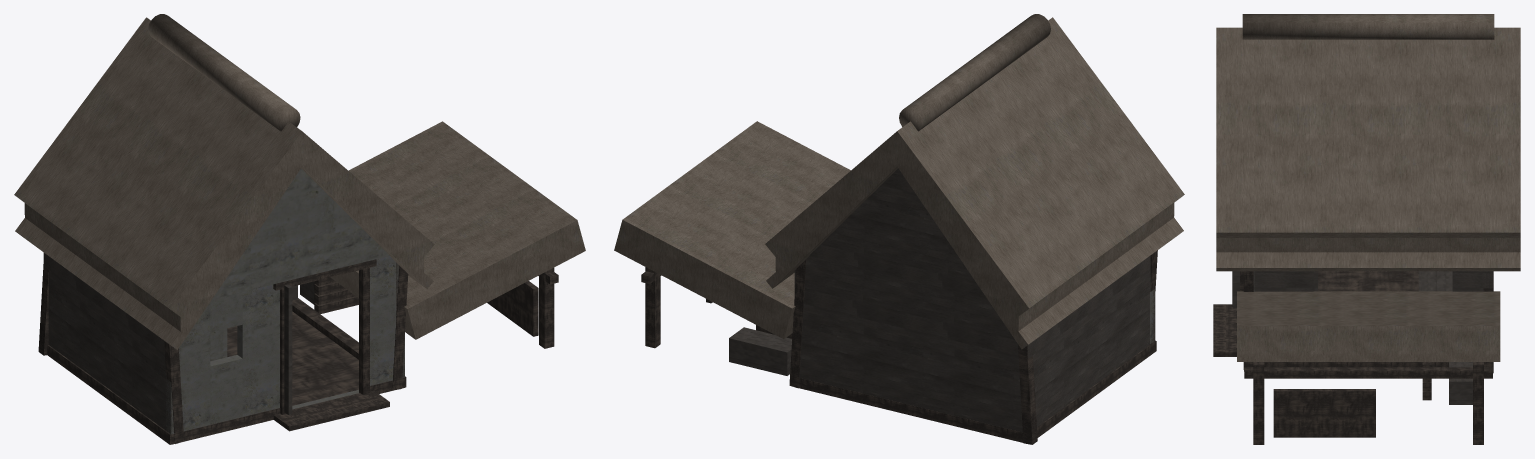
Rendered from prop_cottage_poor_c.glb.
3 renders of one model, left to right at view 1: azimuth 30°, elevation 25°; view 2: azimuth 150°, elevation 25°; view 3: azimuth 270°, elevation 25°, orthographic. The views are drawn at different scales.
Visible parts, largest first — view 1: prop_cottage_poor_c; view 2: prop_cottage_poor_c; view 3: prop_cottage_poor_c.
Boxes of the visible parts, x1,y1,x2,y2 form: prop_cottage_poor_c: (14,14,585,444); prop_cottage_poor_c: (614,14,1184,444); prop_cottage_poor_c: (1213,14,1520,444).
Bounding box in the file's own units: 6.57 × 4.59 × 4.2.
Materials: 5 (5 with a texture image).
